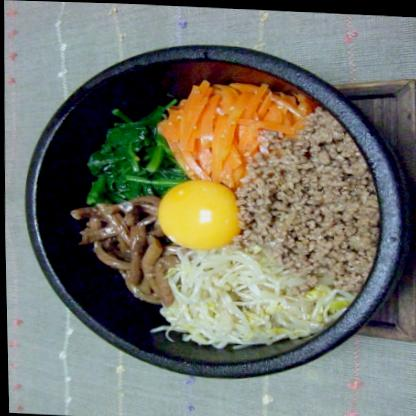bibimbap: (22, 56, 403, 362)
